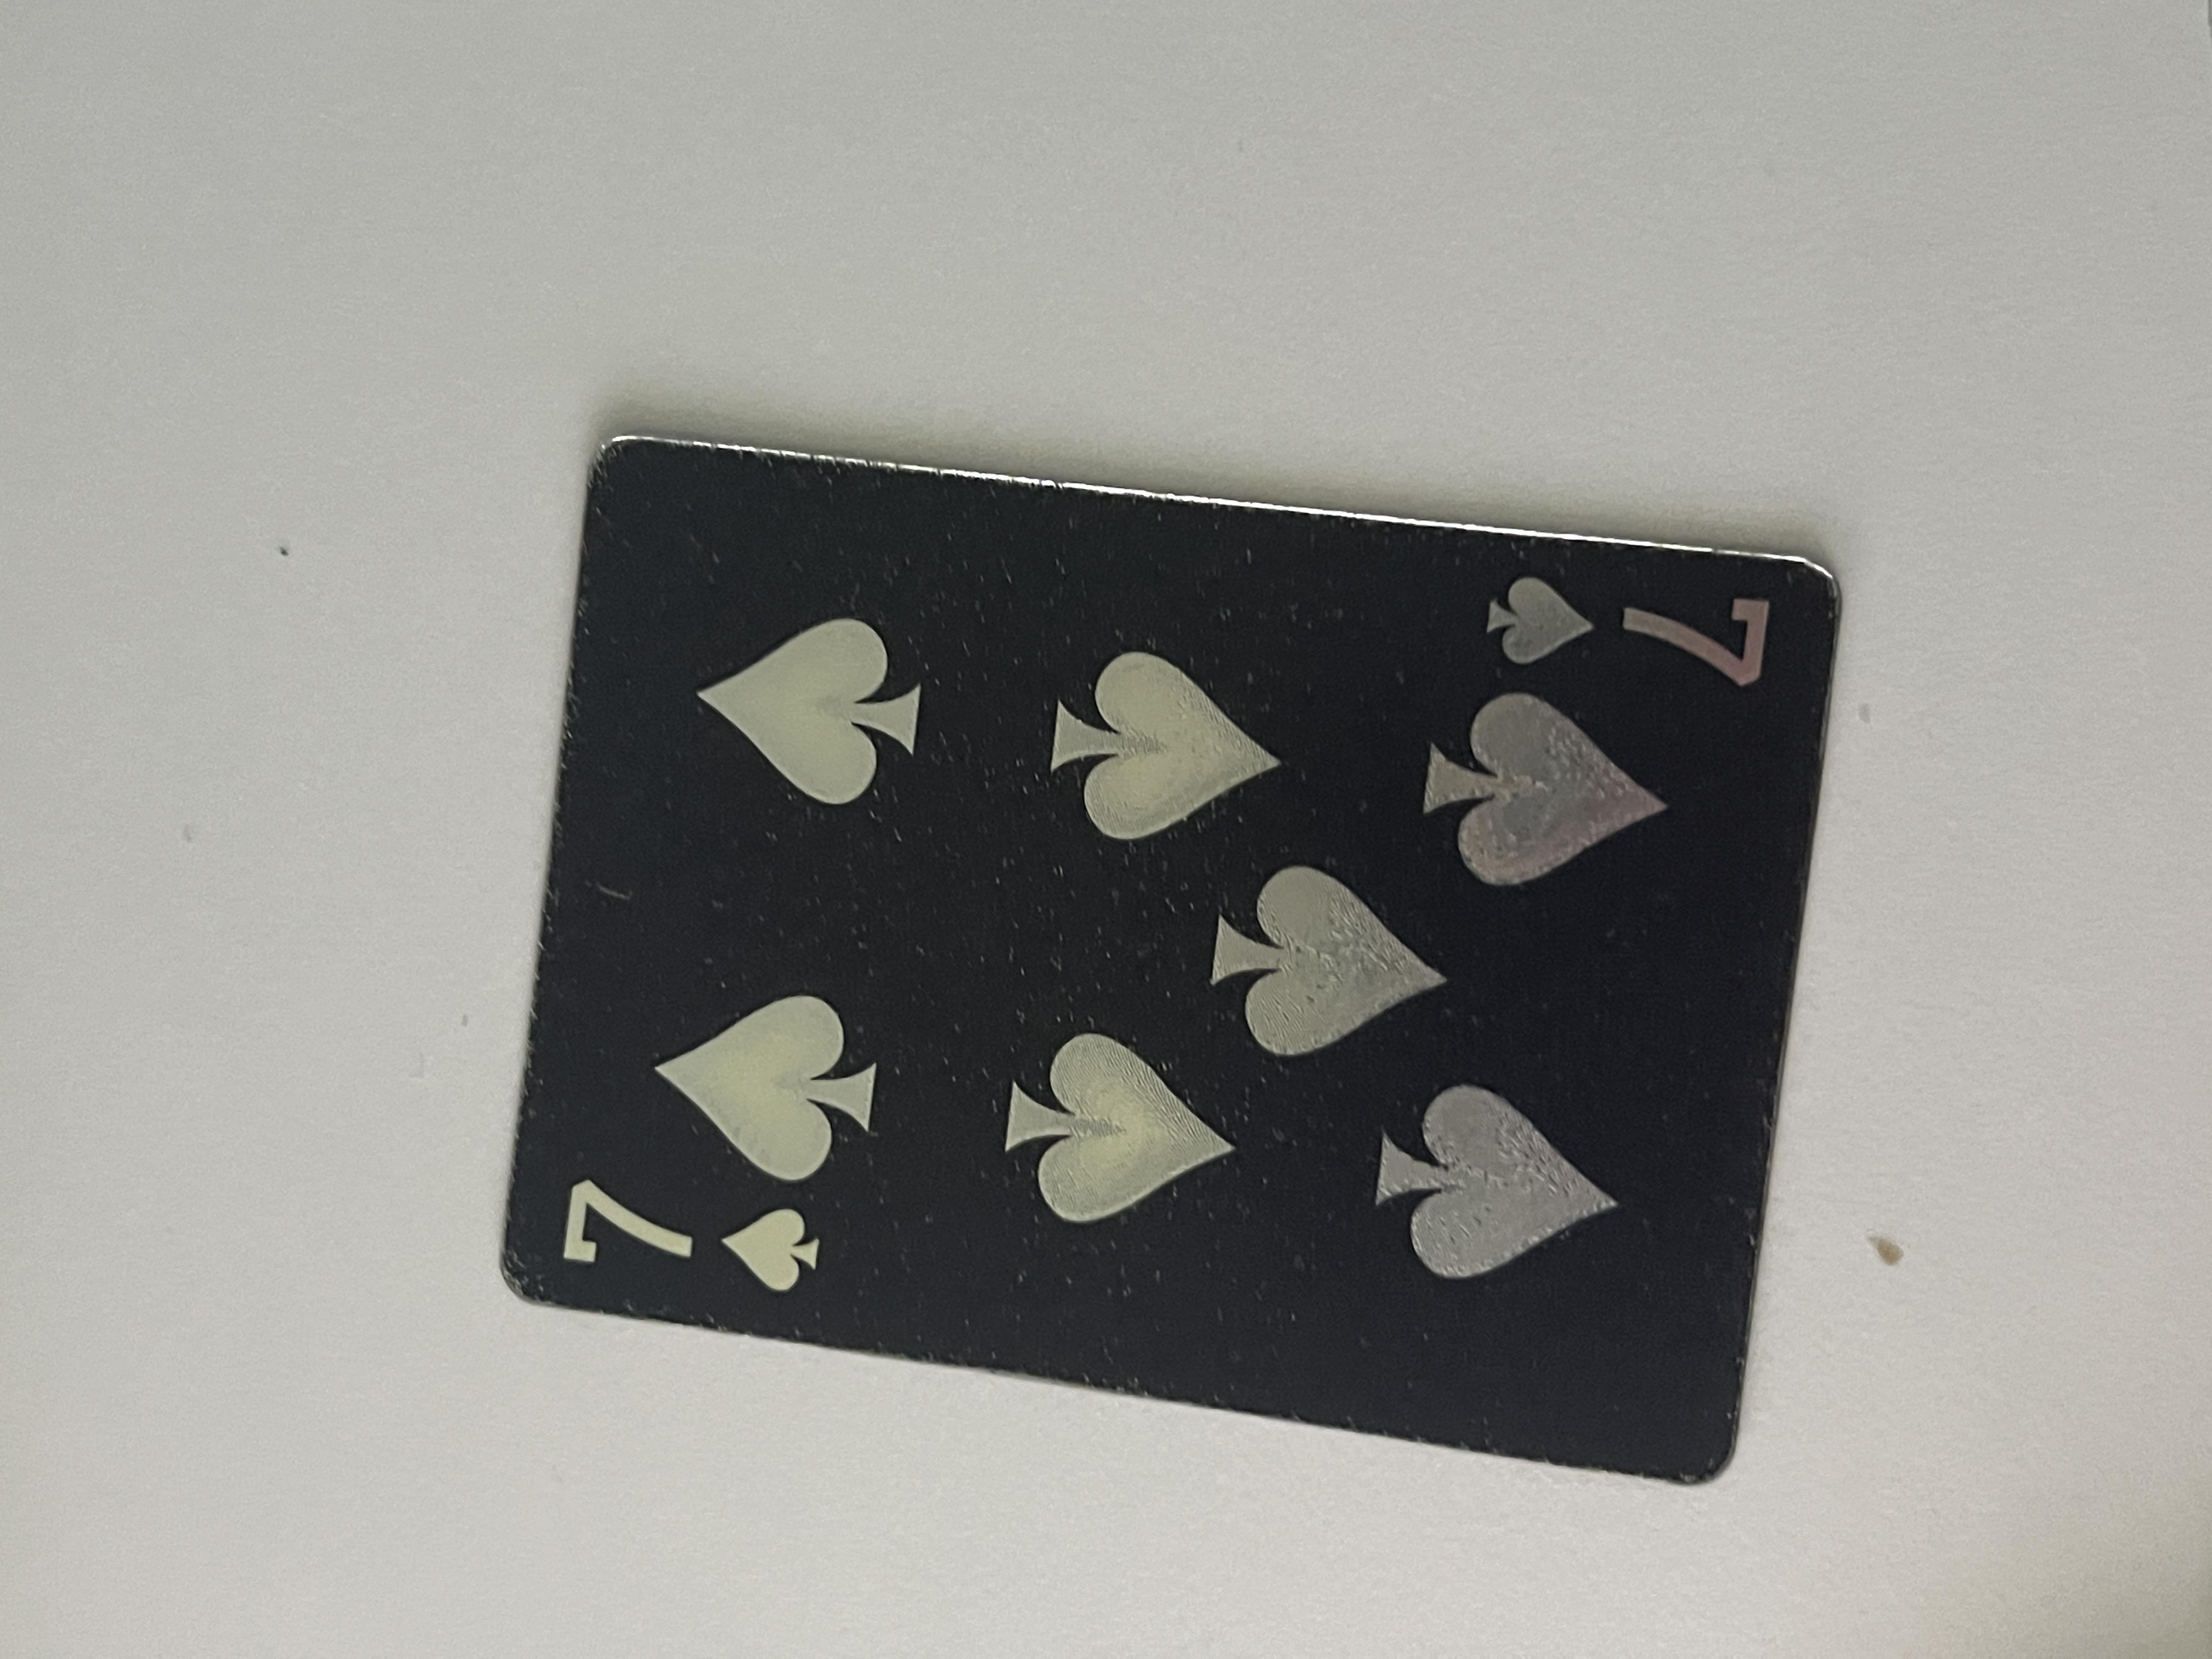7S: (472, 385, 644, 631), (1310, 1105, 1453, 1330)
